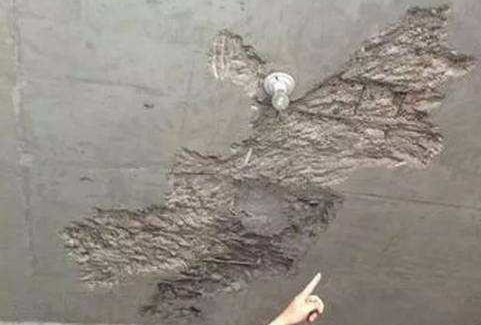Exposed reinforcement: (290, 107, 440, 139), (337, 75, 413, 94), (201, 257, 261, 269), (167, 285, 203, 299), (353, 83, 366, 117), (394, 92, 408, 120), (172, 171, 216, 177), (270, 256, 293, 267)
Spalling: (58, 2, 478, 325)
